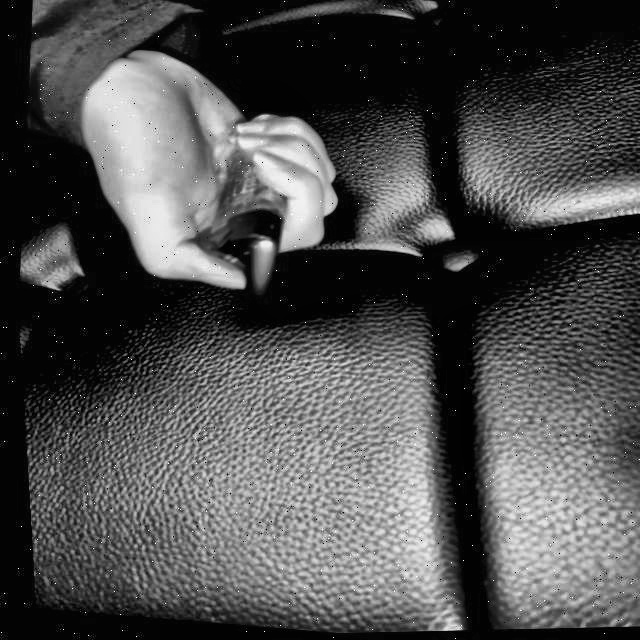Fire: (240, 234, 277, 296)
